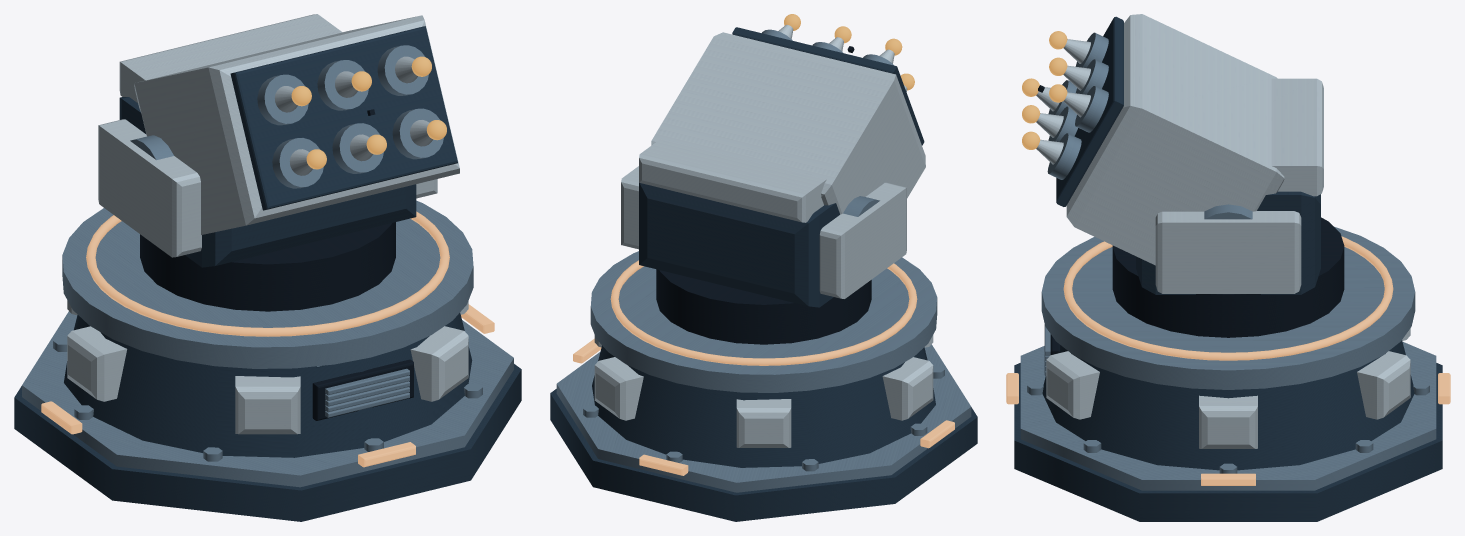
Rendered from missile.glb.
The picture shows the model from 3 angles, left to right: view 1: azimuth 30°, elevation 25°; view 2: azimuth 150°, elevation 25°; view 3: azimuth 270°, elevation 25°; orthographic projection. The views are drawn at different scales.
Parts seen in each view (by area): view 1: Graphite composite (×3), Brushed titanium (×3), Ceramic titanium armor (×3), Carbon machinery, Status light (×2), Power indicator; view 2: Ceramic titanium armor (×3), Graphite composite (×3), Brushed titanium, Carbon machinery, Status light (×2), Power indicator; view 3: Ceramic titanium armor (×3), Brushed titanium (×3), Graphite composite (×3), Carbon machinery, Status light (×2), Power indicator.
Part boxes in pixels (bbox=[...]): Graphite composite (×3): bbox=[14, 26, 521, 521]; Brushed titanium (×3): bbox=[22, 45, 513, 487]; Ceramic titanium armor (×3): bbox=[67, 14, 468, 434]; Carbon machinery: bbox=[140, 222, 413, 420]; Status light (×2): bbox=[41, 211, 494, 467]; Power indicator: bbox=[291, 56, 446, 169]; Ceramic titanium armor (×3): bbox=[594, 25, 933, 447]; Graphite composite (×3): bbox=[550, 27, 977, 521]; Brushed titanium: bbox=[556, 251, 971, 492]; Carbon machinery: bbox=[656, 269, 871, 344]; Status light (×2): bbox=[573, 260, 954, 475]; Power indicator: bbox=[784, 14, 914, 90]; Ceramic titanium armor (×3): bbox=[1036, 14, 1410, 448]; Brushed titanium (×3): bbox=[1020, 32, 1436, 490]; Graphite composite (×3): bbox=[1014, 16, 1442, 521]; Carbon machinery: bbox=[1050, 217, 1344, 354]; Status light (×2): bbox=[1006, 236, 1450, 485]; Power indicator: bbox=[1022, 31, 1067, 149].
Bounding box in the file's own units: 2.26 × 2.09 × 2.26.
7 materials, 5 textured.
